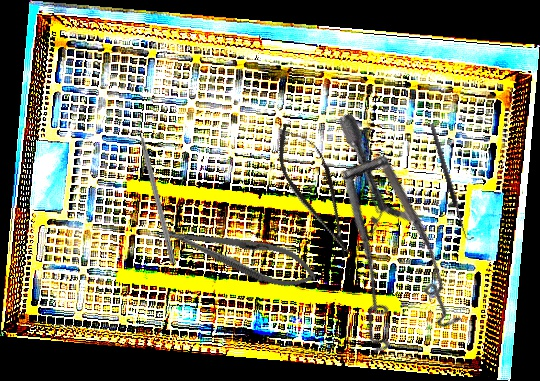Hook Surgical: (132, 111, 178, 265), (428, 121, 476, 242)
Micro Scissor: (263, 114, 369, 267)
Needle Holder: (157, 211, 322, 297)
Speculum: (239, 110, 511, 381)
